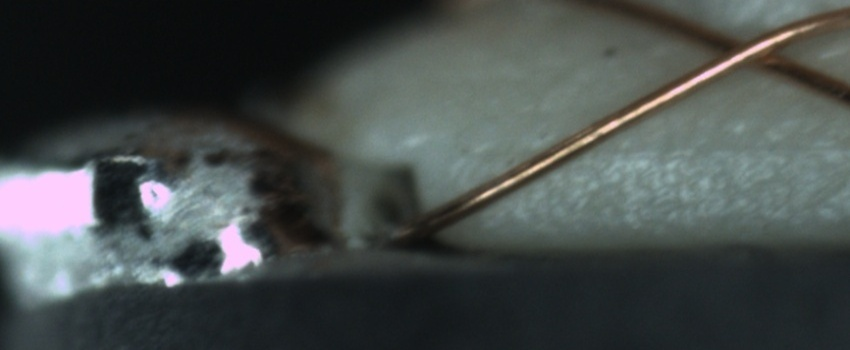CL: (683, 16, 809, 80)
DL: (524, 118, 850, 177)
